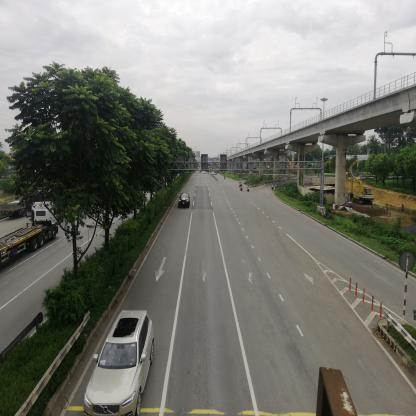car: (85, 311, 157, 416), (179, 195, 191, 211)
motorbike: (246, 185, 252, 192), (241, 186, 244, 192)
